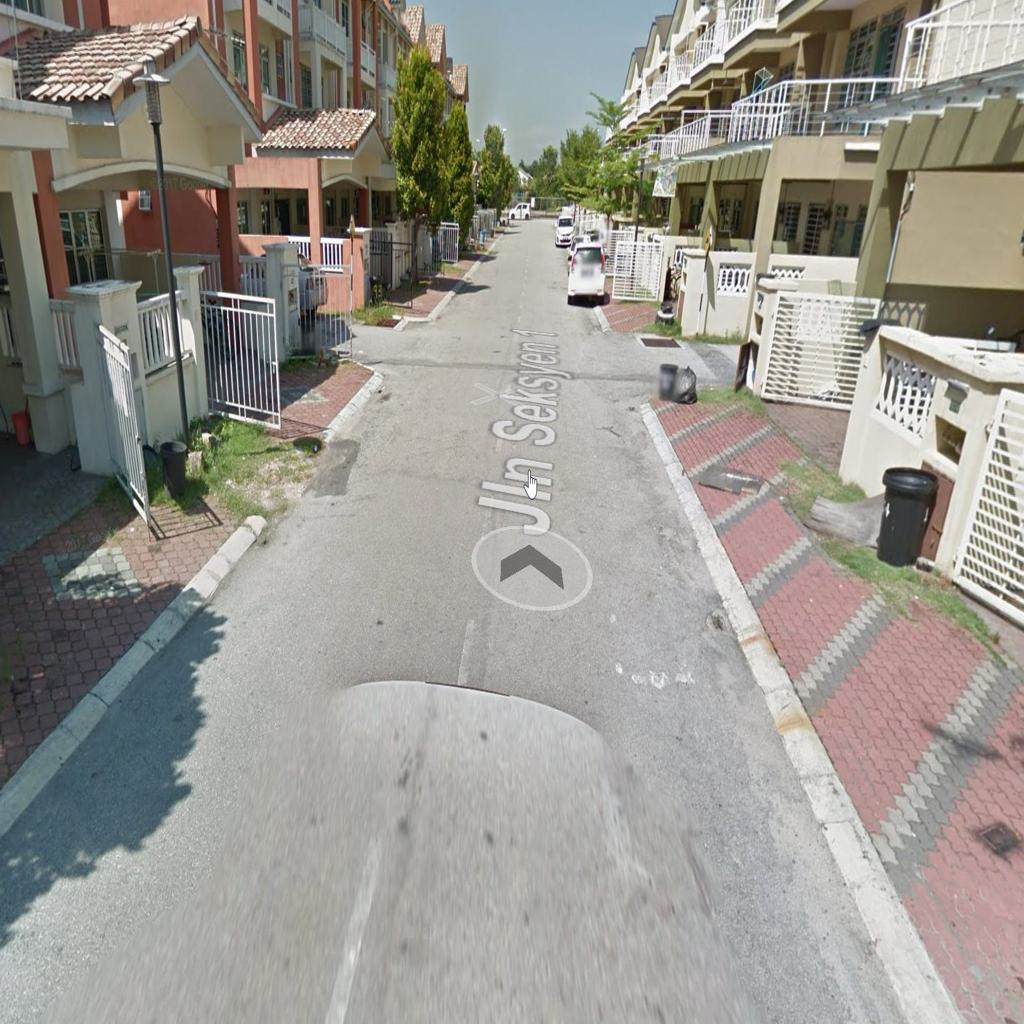Junction: (581, 295, 749, 421), (312, 278, 431, 398)
